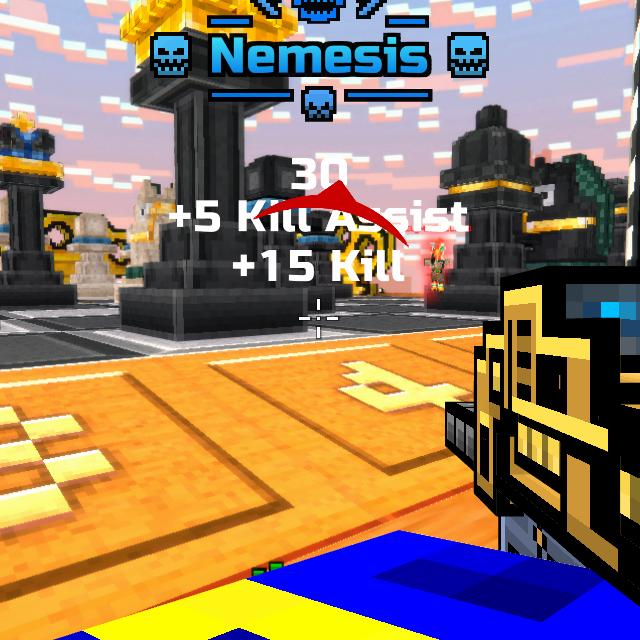Enemy: (421, 244, 450, 292)
